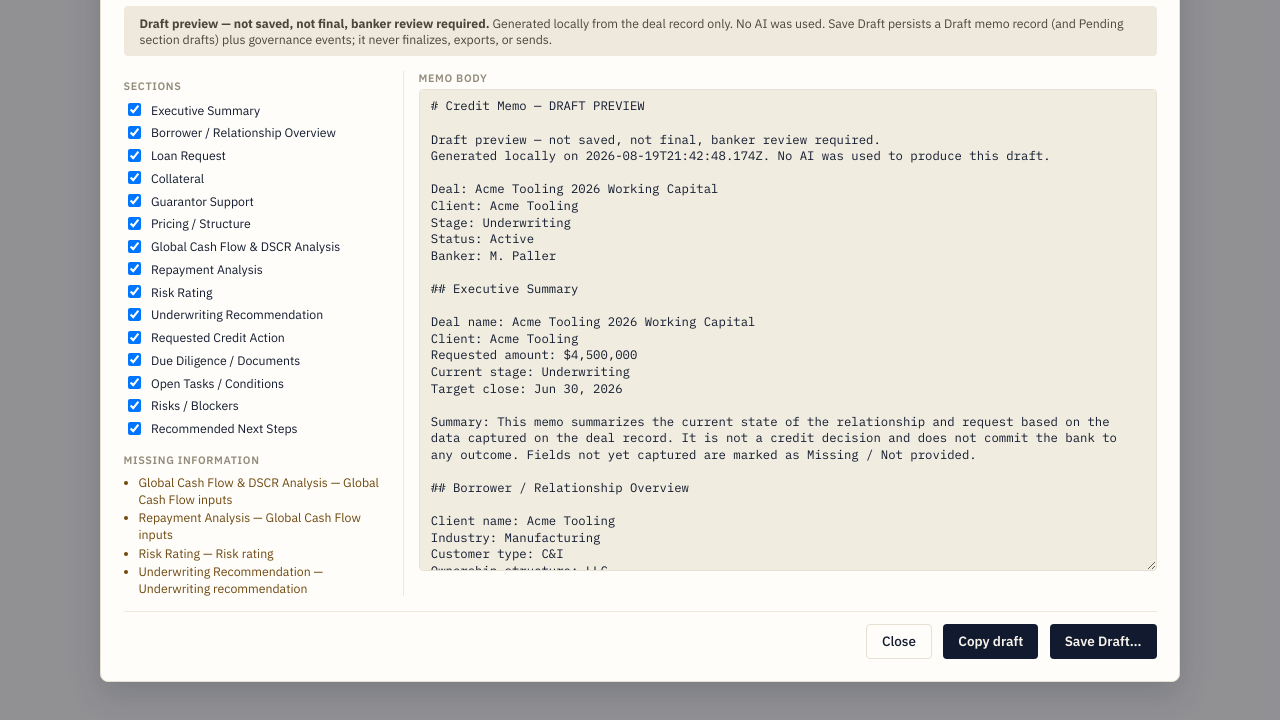
Test case: CreditMemoDraftModal — Phase 25 Save Draft flow › clicking Save Draft opens the confirmation step (not an immediate save)
The width and height of the screenshot is (1280, 720).
(page scrolled)
What coordinates should you click on to do the following:
click the button with aria-label "save credit memo draft"
I would click on:
 (1103, 641)
Its box is [1050,624,1156,659].
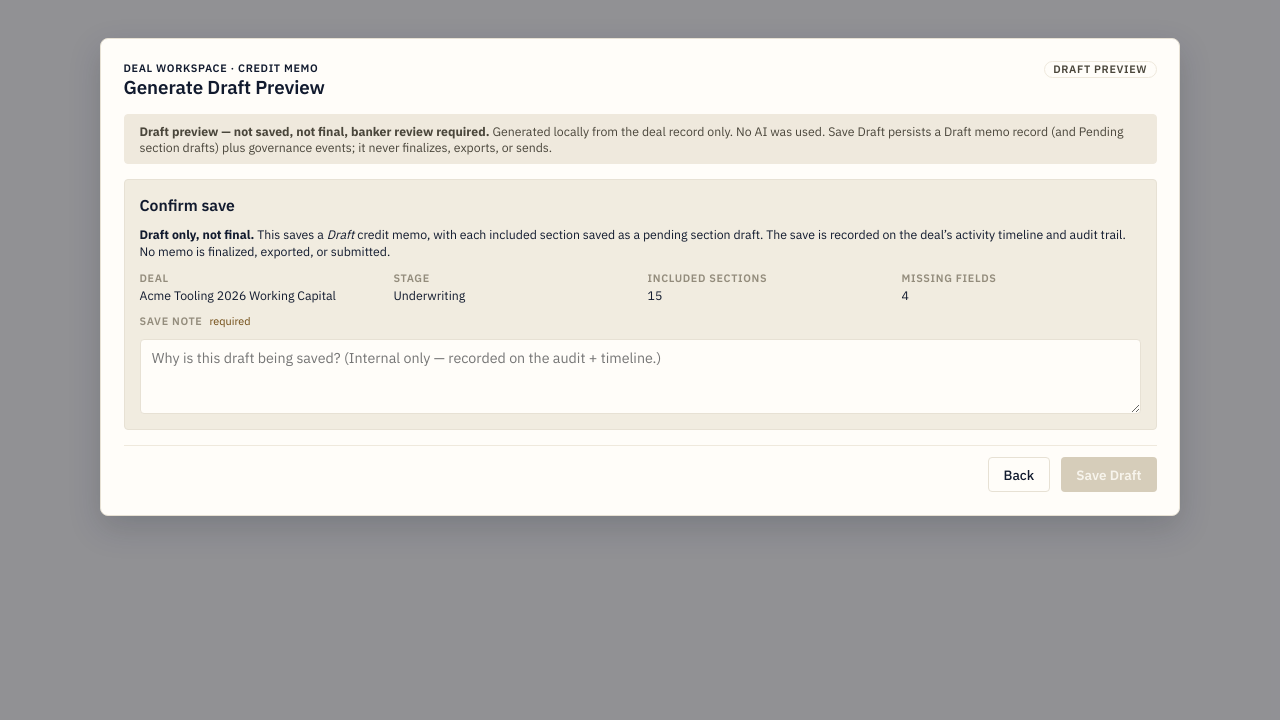
Expected: the heading "Confirm save" is shown, [140,195,235,215]
Expected: the text "Draft only, not final." is shown, [140,226,254,242]
